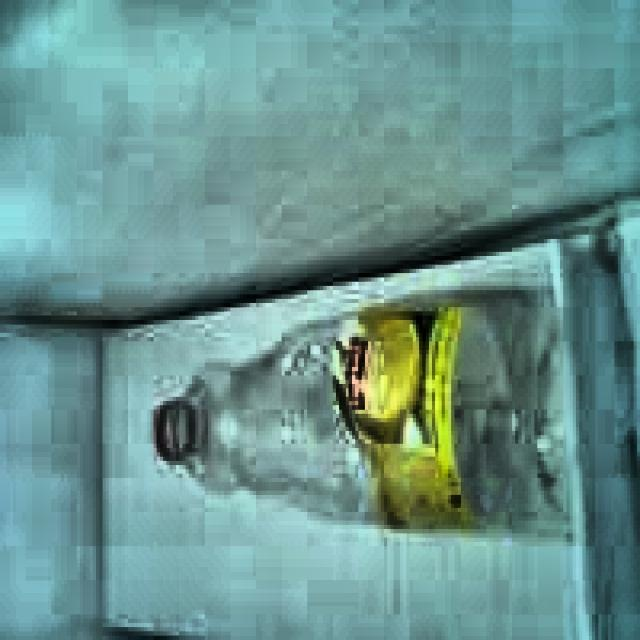Bottles: (150, 255, 615, 582)
